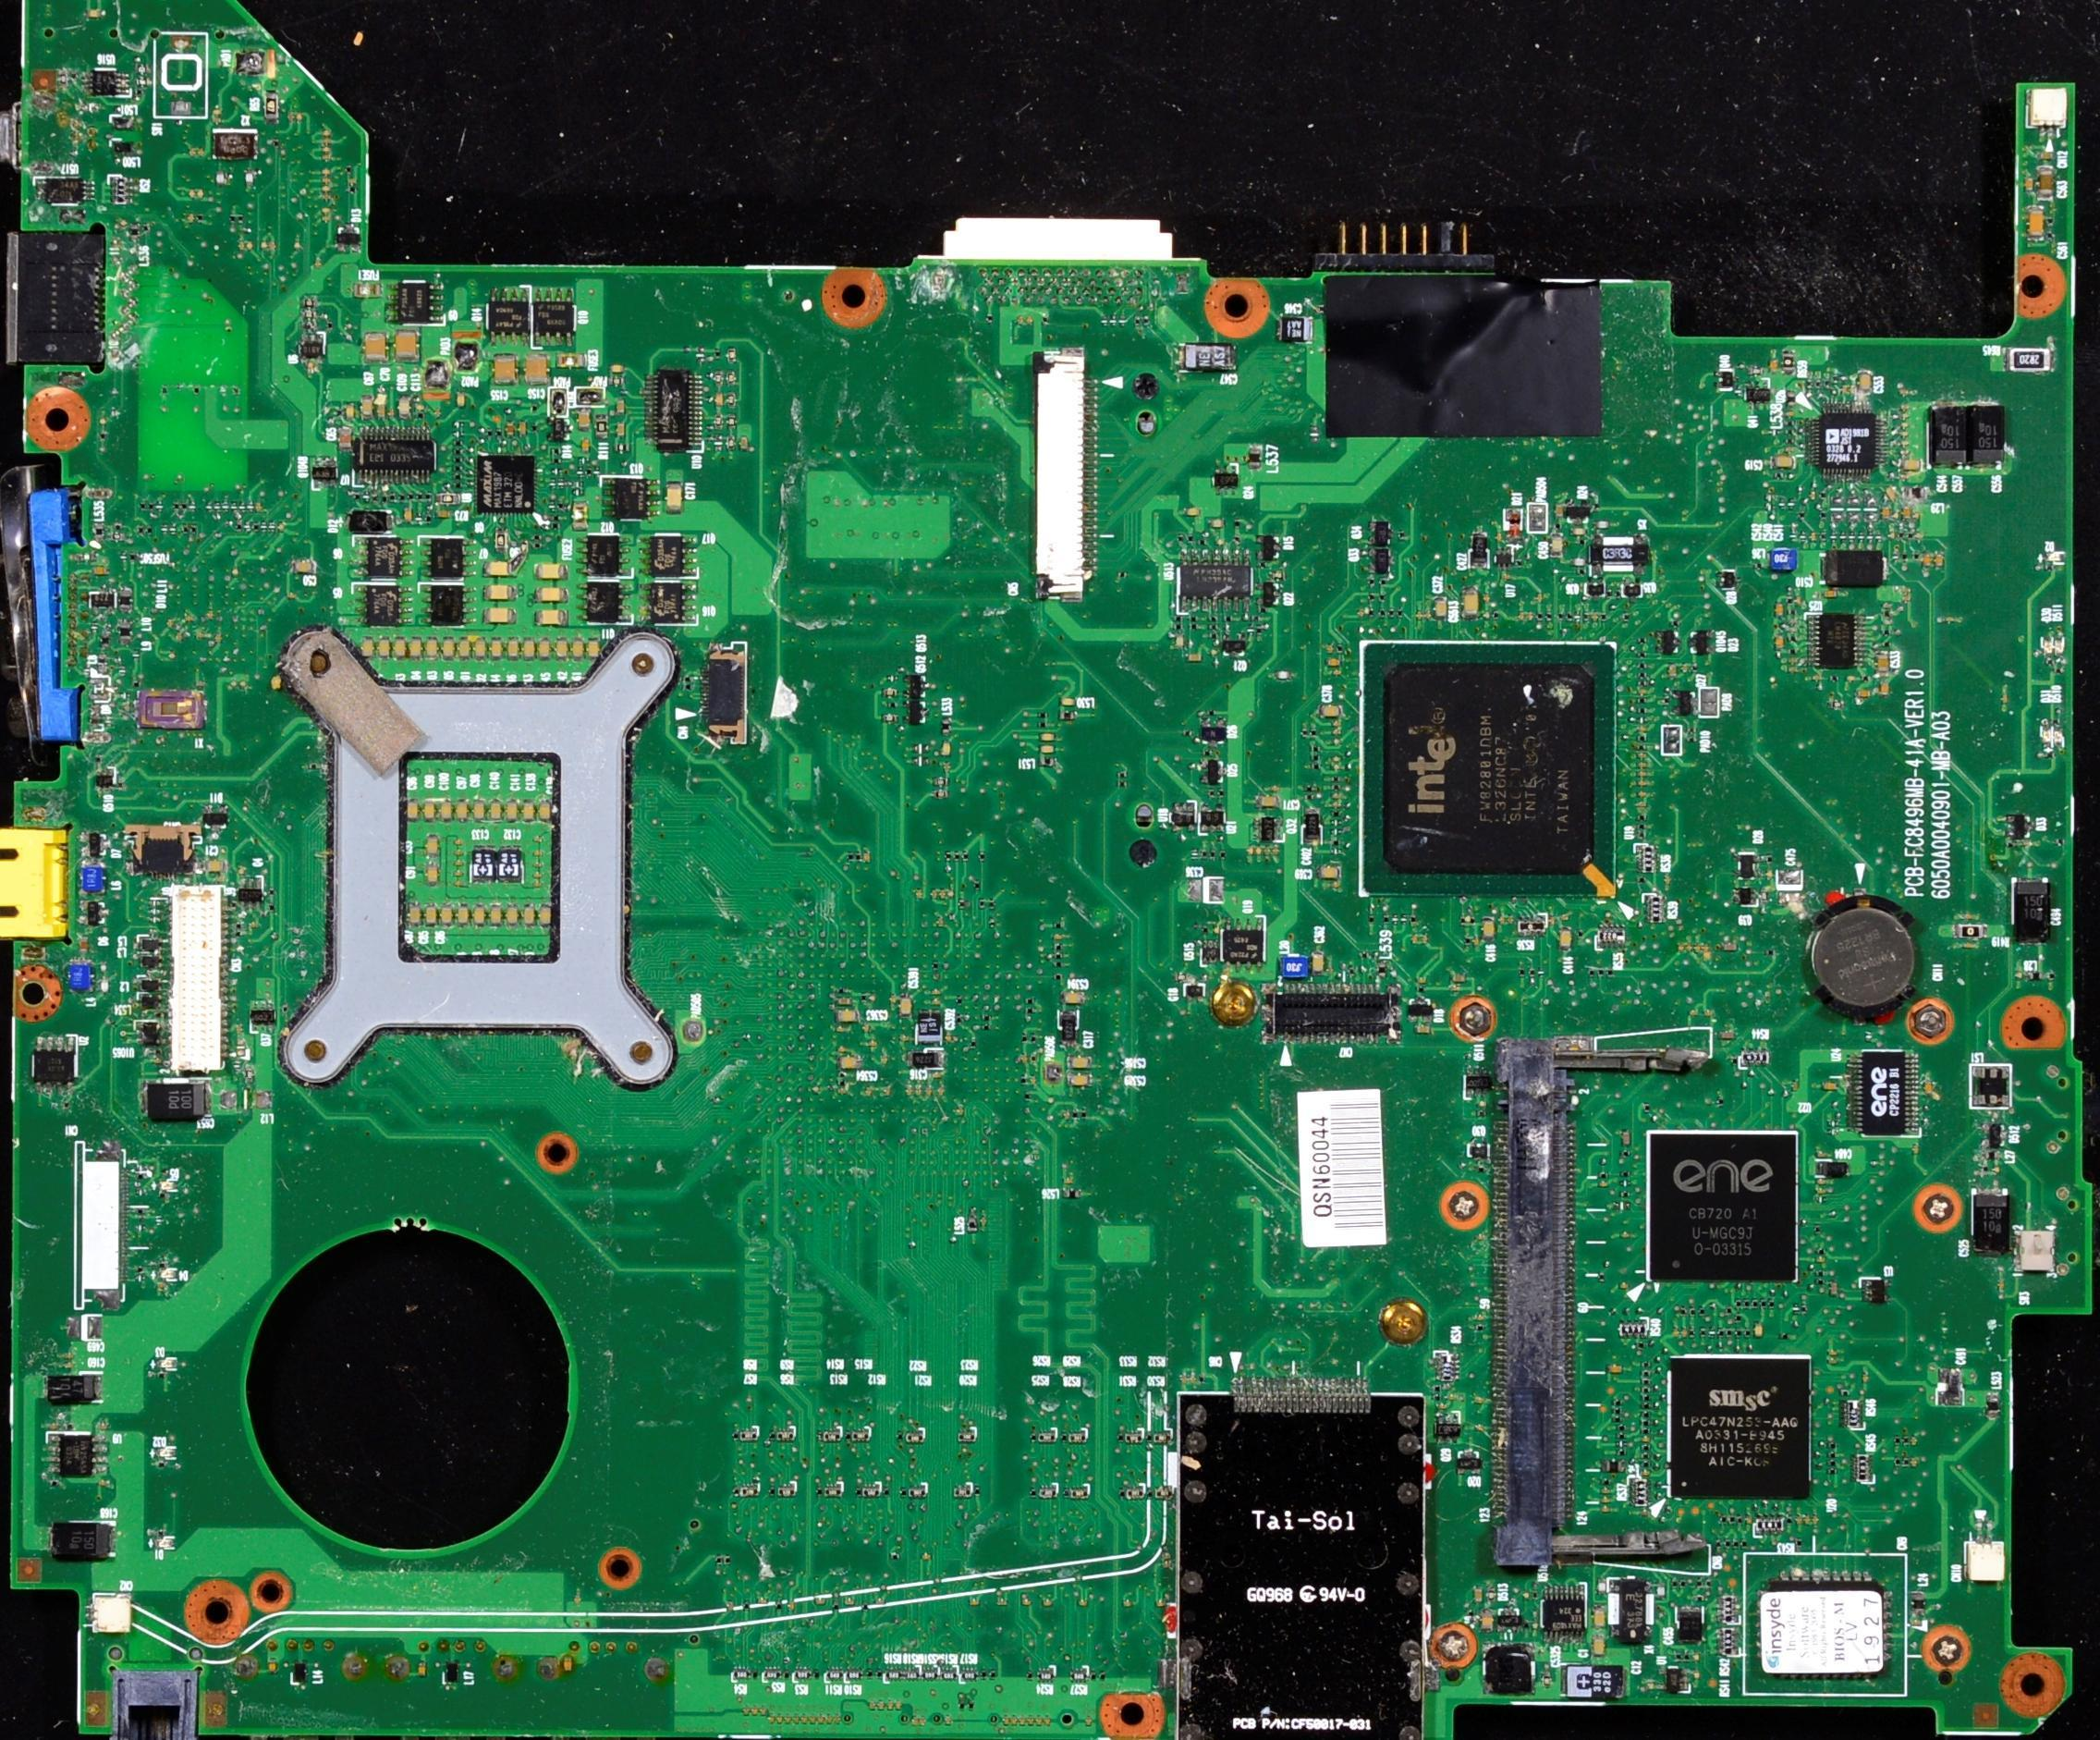Capacitor: (395, 329, 420, 366), (491, 352, 519, 384), (524, 353, 548, 385), (365, 332, 389, 361), (516, 900, 537, 928), (532, 561, 568, 580), (536, 587, 569, 605), (1460, 589, 1480, 619), (534, 609, 569, 624), (665, 482, 682, 514), (482, 798, 503, 824), (485, 584, 517, 601), (484, 607, 516, 622), (484, 562, 513, 578), (535, 904, 555, 927), (290, 559, 315, 575), (1256, 794, 1282, 809), (582, 639, 602, 659), (1070, 1055, 1093, 1072), (506, 637, 523, 659), (469, 798, 486, 821), (534, 799, 551, 822), (453, 902, 470, 927), (550, 639, 568, 658), (898, 993, 911, 1020), (839, 1055, 865, 1069), (1857, 369, 1872, 394), (519, 799, 535, 823), (1772, 456, 1797, 469), (201, 860, 227, 874), (503, 901, 517, 926), (568, 639, 585, 658), (1433, 596, 1447, 619), (489, 902, 500, 928), (1062, 991, 1084, 1005), (521, 638, 536, 661), (441, 798, 456, 820), (470, 906, 487, 925), (1551, 534, 1563, 558), (425, 902, 437, 926), (1071, 1072, 1093, 1087), (407, 799, 421, 821), (1318, 865, 1339, 879), (490, 639, 503, 662), (409, 902, 421, 925), (362, 395, 373, 420), (537, 639, 553, 656), (836, 1010, 857, 1023), (457, 639, 471, 658), (1877, 654, 1890, 673), (423, 801, 437, 820), (1312, 951, 1324, 973), (360, 636, 373, 656), (441, 641, 453, 662), (455, 802, 468, 822), (340, 429, 350, 451), (425, 639, 436, 661), (507, 797, 518, 820), (409, 639, 421, 657), (377, 396, 386, 417), (1901, 460, 1922, 471), (1321, 706, 1342, 717), (1560, 930, 1570, 954), (475, 640, 487, 658), (396, 640, 407, 660), (441, 905, 452, 925), (1484, 921, 1495, 939), (400, 396, 409, 415), (346, 403, 355, 422), (1775, 634, 1785, 647), (1776, 603, 1785, 618), (380, 641, 389, 656), (1880, 680, 1888, 694), (1557, 504, 1564, 518), (1825, 591, 1837, 597), (1857, 691, 1872, 696), (1903, 587, 1911, 593), (1902, 595, 1911, 602), (1848, 676, 1858, 681), (1789, 667, 1798, 672), (1813, 676, 1825, 680), (1789, 657, 1797, 662)
Connector: (1493, 1039, 1570, 1569), (75, 1138, 133, 1309)
IC: (460, 426, 552, 523), (1846, 1046, 1918, 1133), (1808, 405, 1882, 482), (646, 366, 704, 452), (355, 428, 433, 486), (1806, 613, 1868, 668), (45, 1431, 106, 1480), (1538, 1582, 1588, 1639), (31, 1035, 78, 1095), (36, 175, 92, 207), (86, 67, 130, 97), (1658, 1662, 1691, 1697), (299, 334, 330, 365), (134, 1019, 162, 1049), (1174, 803, 1196, 831), (1203, 808, 1226, 830)
Resistor: (906, 1424, 927, 1445), (264, 91, 279, 123), (958, 1424, 977, 1447), (954, 1484, 981, 1499), (905, 1484, 932, 1500), (773, 1427, 795, 1443), (850, 1428, 873, 1445), (1517, 917, 1543, 933), (858, 1483, 884, 1499), (737, 1483, 760, 1500), (820, 1482, 843, 1498), (1034, 1428, 1059, 1441), (738, 1424, 758, 1440), (821, 1426, 843, 1441), (956, 1670, 982, 1682), (1067, 1487, 1090, 1501), (880, 1669, 901, 1683), (1155, 1484, 1172, 1501), (1065, 1670, 1089, 1682), (1150, 1429, 1171, 1443), (1068, 1433, 1091, 1446), (1037, 1486, 1058, 1499), (1122, 1489, 1148, 1500), (763, 1668, 782, 1682), (774, 1483, 794, 1496), (791, 1670, 812, 1681), (1127, 1432, 1143, 1445), (732, 1667, 750, 1679), (1037, 1668, 1054, 1681), (941, 1670, 957, 1682), (844, 1671, 860, 1683), (919, 1672, 936, 1682), (824, 1670, 840, 1681), (902, 1672, 918, 1682)
Transistor: (1744, 1554, 1906, 1697), (416, 582, 479, 629), (600, 473, 661, 520), (349, 585, 414, 629), (350, 536, 413, 580), (415, 535, 477, 580), (387, 279, 445, 325), (531, 288, 575, 342), (641, 536, 698, 578), (641, 582, 696, 622), (580, 534, 630, 577), (577, 584, 632, 625), (491, 288, 531, 341), (1222, 915, 1265, 963), (239, 876, 263, 913), (1434, 1414, 1463, 1441), (311, 455, 337, 489), (1253, 816, 1283, 843), (251, 1002, 274, 1035), (1862, 1280, 1890, 1305), (1462, 1072, 1492, 1095), (1655, 631, 1679, 656), (1212, 470, 1239, 492), (1258, 534, 1280, 559), (1673, 689, 1696, 715), (1465, 1133, 1487, 1158), (1691, 630, 1713, 655), (1374, 547, 1391, 575), (902, 675, 925, 697), (1744, 388, 1772, 403), (907, 703, 928, 725), (1263, 583, 1280, 607), (1224, 641, 1247, 658), (1717, 570, 1739, 587), (97, 769, 119, 788), (1718, 369, 1732, 392), (1375, 521, 1390, 545), (1567, 506, 1591, 519), (1621, 583, 1642, 597), (1586, 583, 1606, 595)
